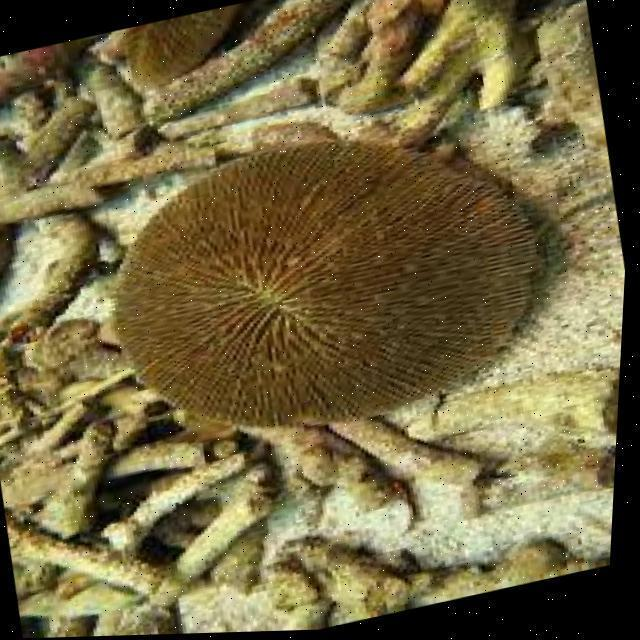Healthy Coral: (89, 94, 576, 468)
